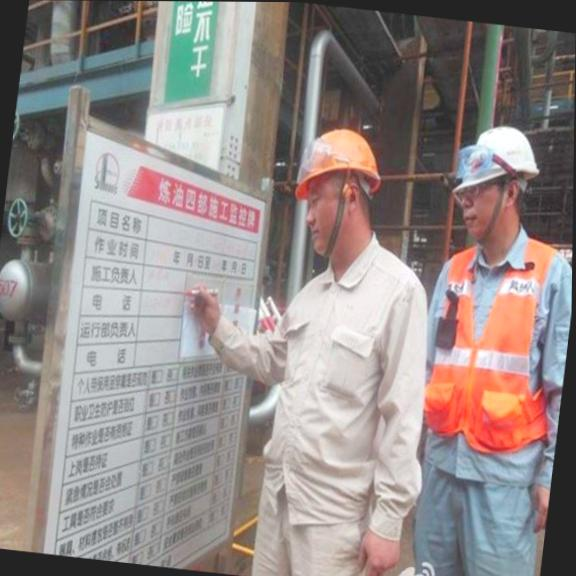no_safety_vest: (245, 246, 447, 516)
safety_vest: (417, 225, 573, 465)
